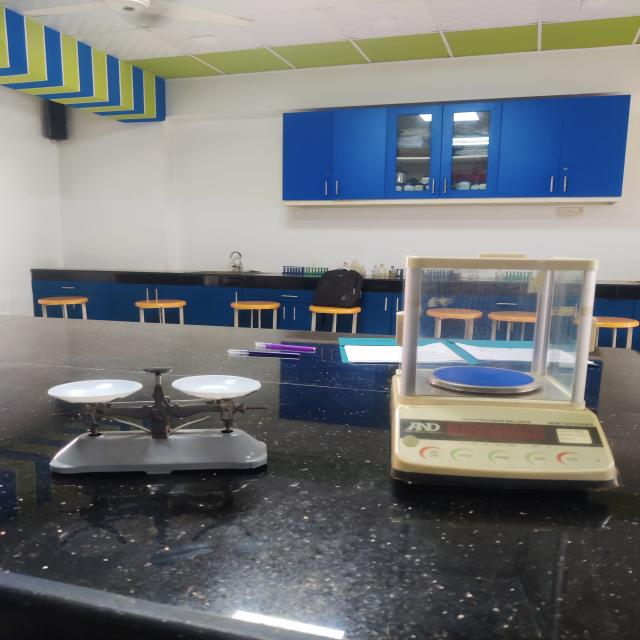Mechanical_Balance_Scale: (30, 357, 276, 488)
Precision_Weight_Scale: (377, 242, 632, 498)
